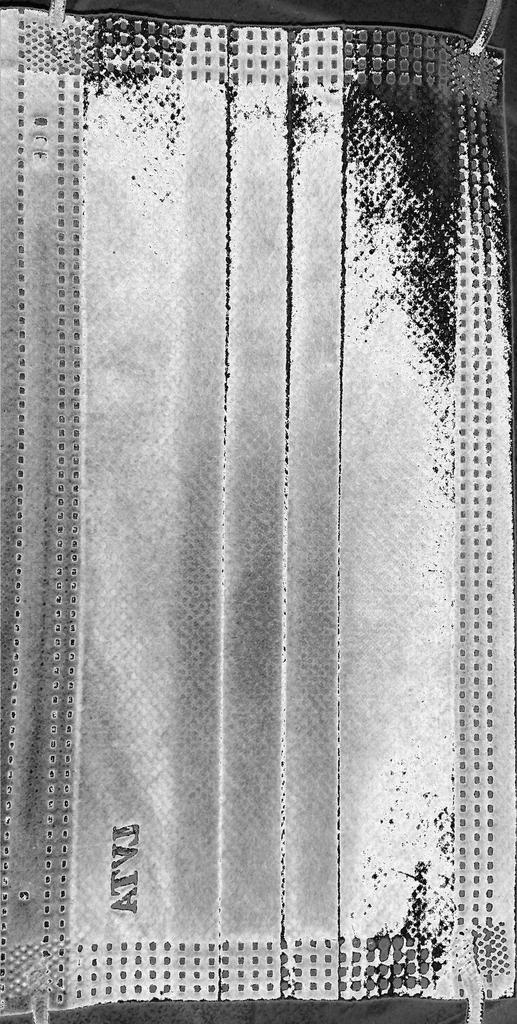High GSM: (58, 12, 464, 945)
